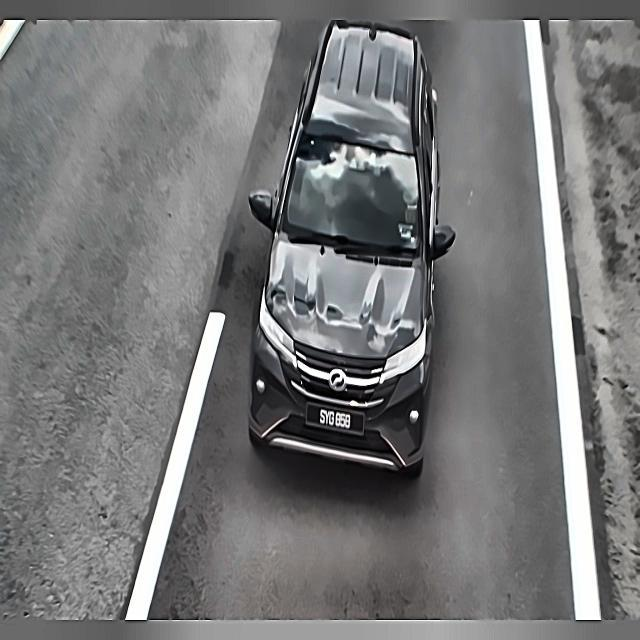car: (304, 400, 370, 441)
